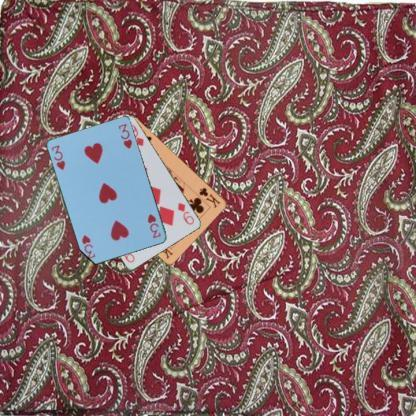3h: (49, 142, 67, 172), (145, 212, 162, 239)
9d: (175, 200, 196, 226)
Kc: (197, 184, 222, 209)
